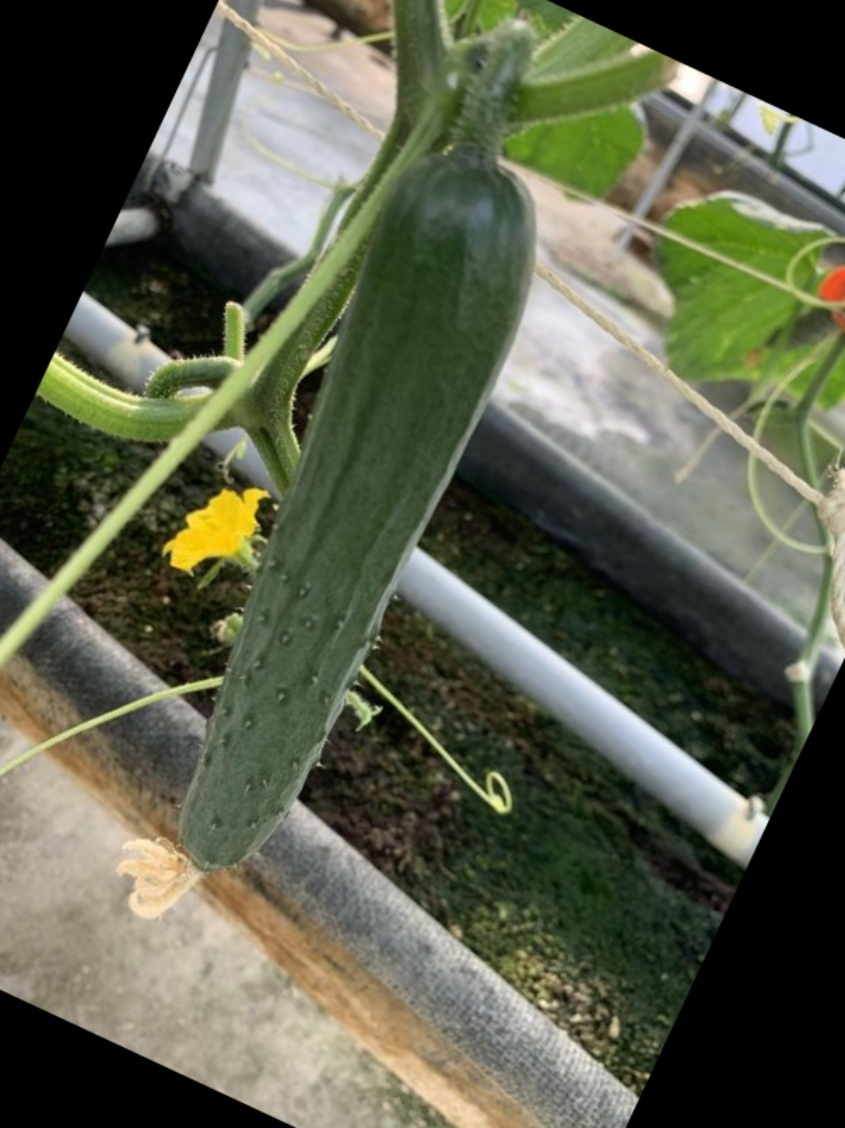mature: (174, 196, 538, 860)
